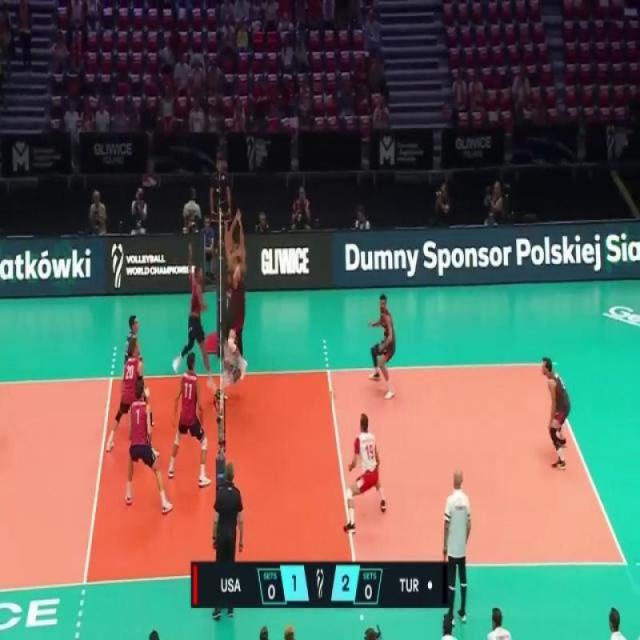volleyball: (326, 386, 338, 403)
